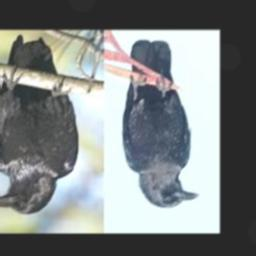Crow: (0, 34, 79, 214), (121, 40, 200, 208)
